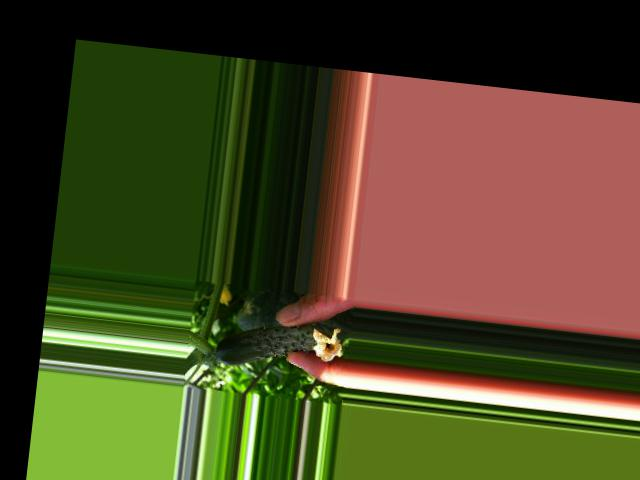cucumber: (214, 314, 343, 376)
